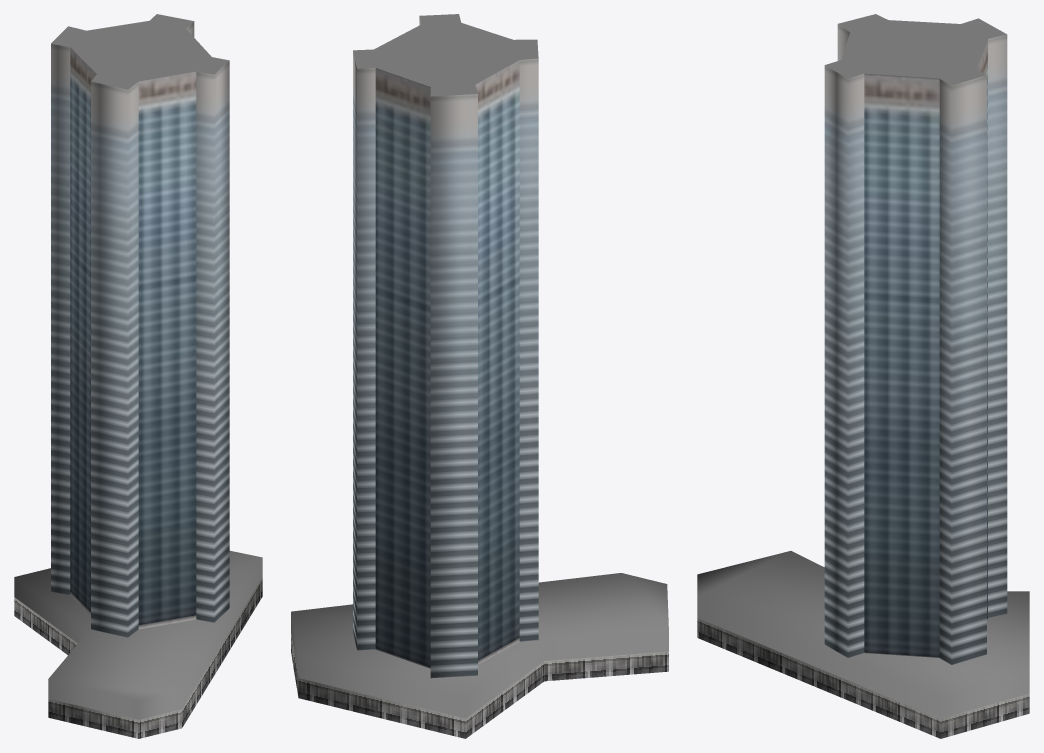
The model's file is JW_Marriott_Hotel.dae.
3 renders of one model, left to right at view 1: azimuth 30°, elevation 25°; view 2: azimuth 150°, elevation 25°; view 3: azimuth 270°, elevation 25°, orthographic. The views are drawn at different scales.
Parts seen in each view (by area): view 1: _Beige_1, _Black_, _Charcoal_, FrontColor, _Brown_; view 2: _Black_, _Beige_1, _Charcoal_, FrontColor, _Brown_; view 3: _Beige_1, _Black_, _Charcoal_, FrontColor, _Brown_.
Part boxes in pixels (left/top/right/bottom): _Beige_1: left=51, top=21, right=229, bottom=637; _Black_: left=70, top=47, right=196, bottom=629; _Charcoal_: left=14, top=550, right=262, bottom=719; FrontColor: left=51, top=14, right=228, bottom=89; _Brown_: left=14, top=578, right=262, bottom=738; _Black_: left=375, top=60, right=519, bottom=668; _Beige_1: left=353, top=16, right=538, bottom=678; _Charcoal_: left=291, top=573, right=668, bottom=718; FrontColor: left=353, top=14, right=538, bottom=96; _Brown_: left=291, top=633, right=668, bottom=738; _Beige_1: left=824, top=24, right=1007, bottom=664; _Black_: left=864, top=40, right=987, bottom=657; _Charcoal_: left=697, top=551, right=1029, bottom=718; FrontColor: left=825, top=14, right=1006, bottom=85; _Brown_: left=697, top=618, right=1029, bottom=738.
Size of the model in its own units: 83.8 by 80 by 165.
Materials: 4 (4 with a texture image).
